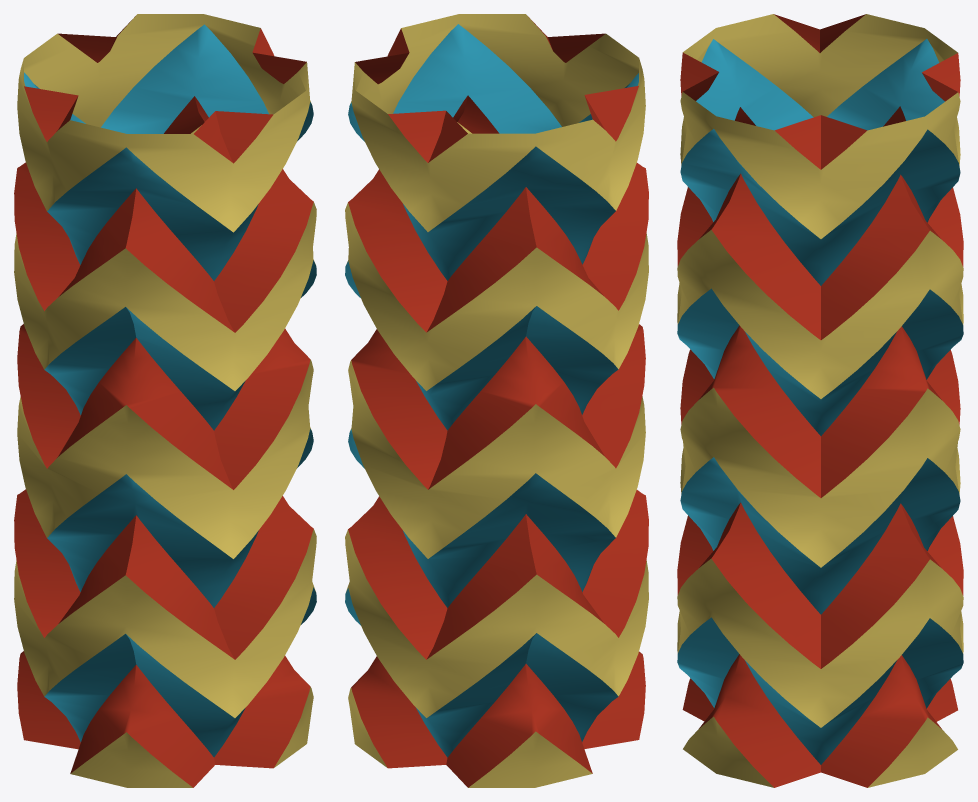
File: tower_c.FBX
3 renders of one model, left to right at view 1: azimuth 30°, elevation 25°; view 2: azimuth 150°, elevation 25°; view 3: azimuth 270°, elevation 25°, orthographic.
Parts seen in each view (by area): view 1: Object023; view 2: Object023; view 3: Object023.
Boxes of the visible parts, <box> form: Object023: <box>14,14,316,787</box>; Object023: <box>345,14,648,787</box>; Object023: <box>677,14,963,787</box>.
Bounding box in the file's own units: 5682 × 14400 × 5682.
